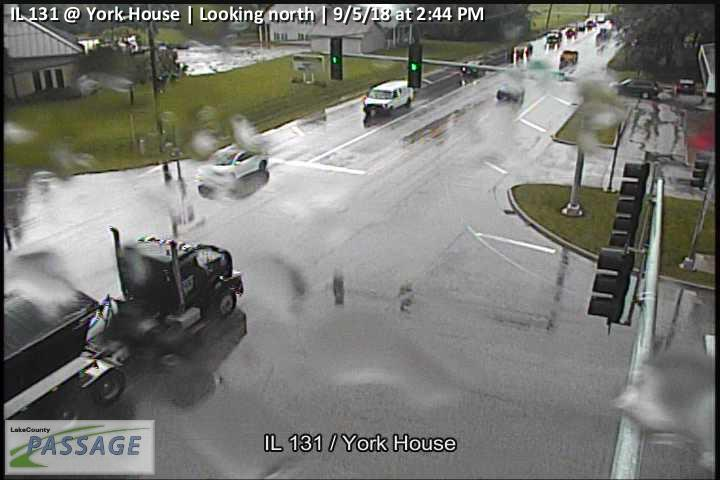SUV: (611, 76, 662, 99)
Sedan: (207, 142, 268, 182)
Truck: (1, 225, 243, 436), (364, 79, 415, 111)
